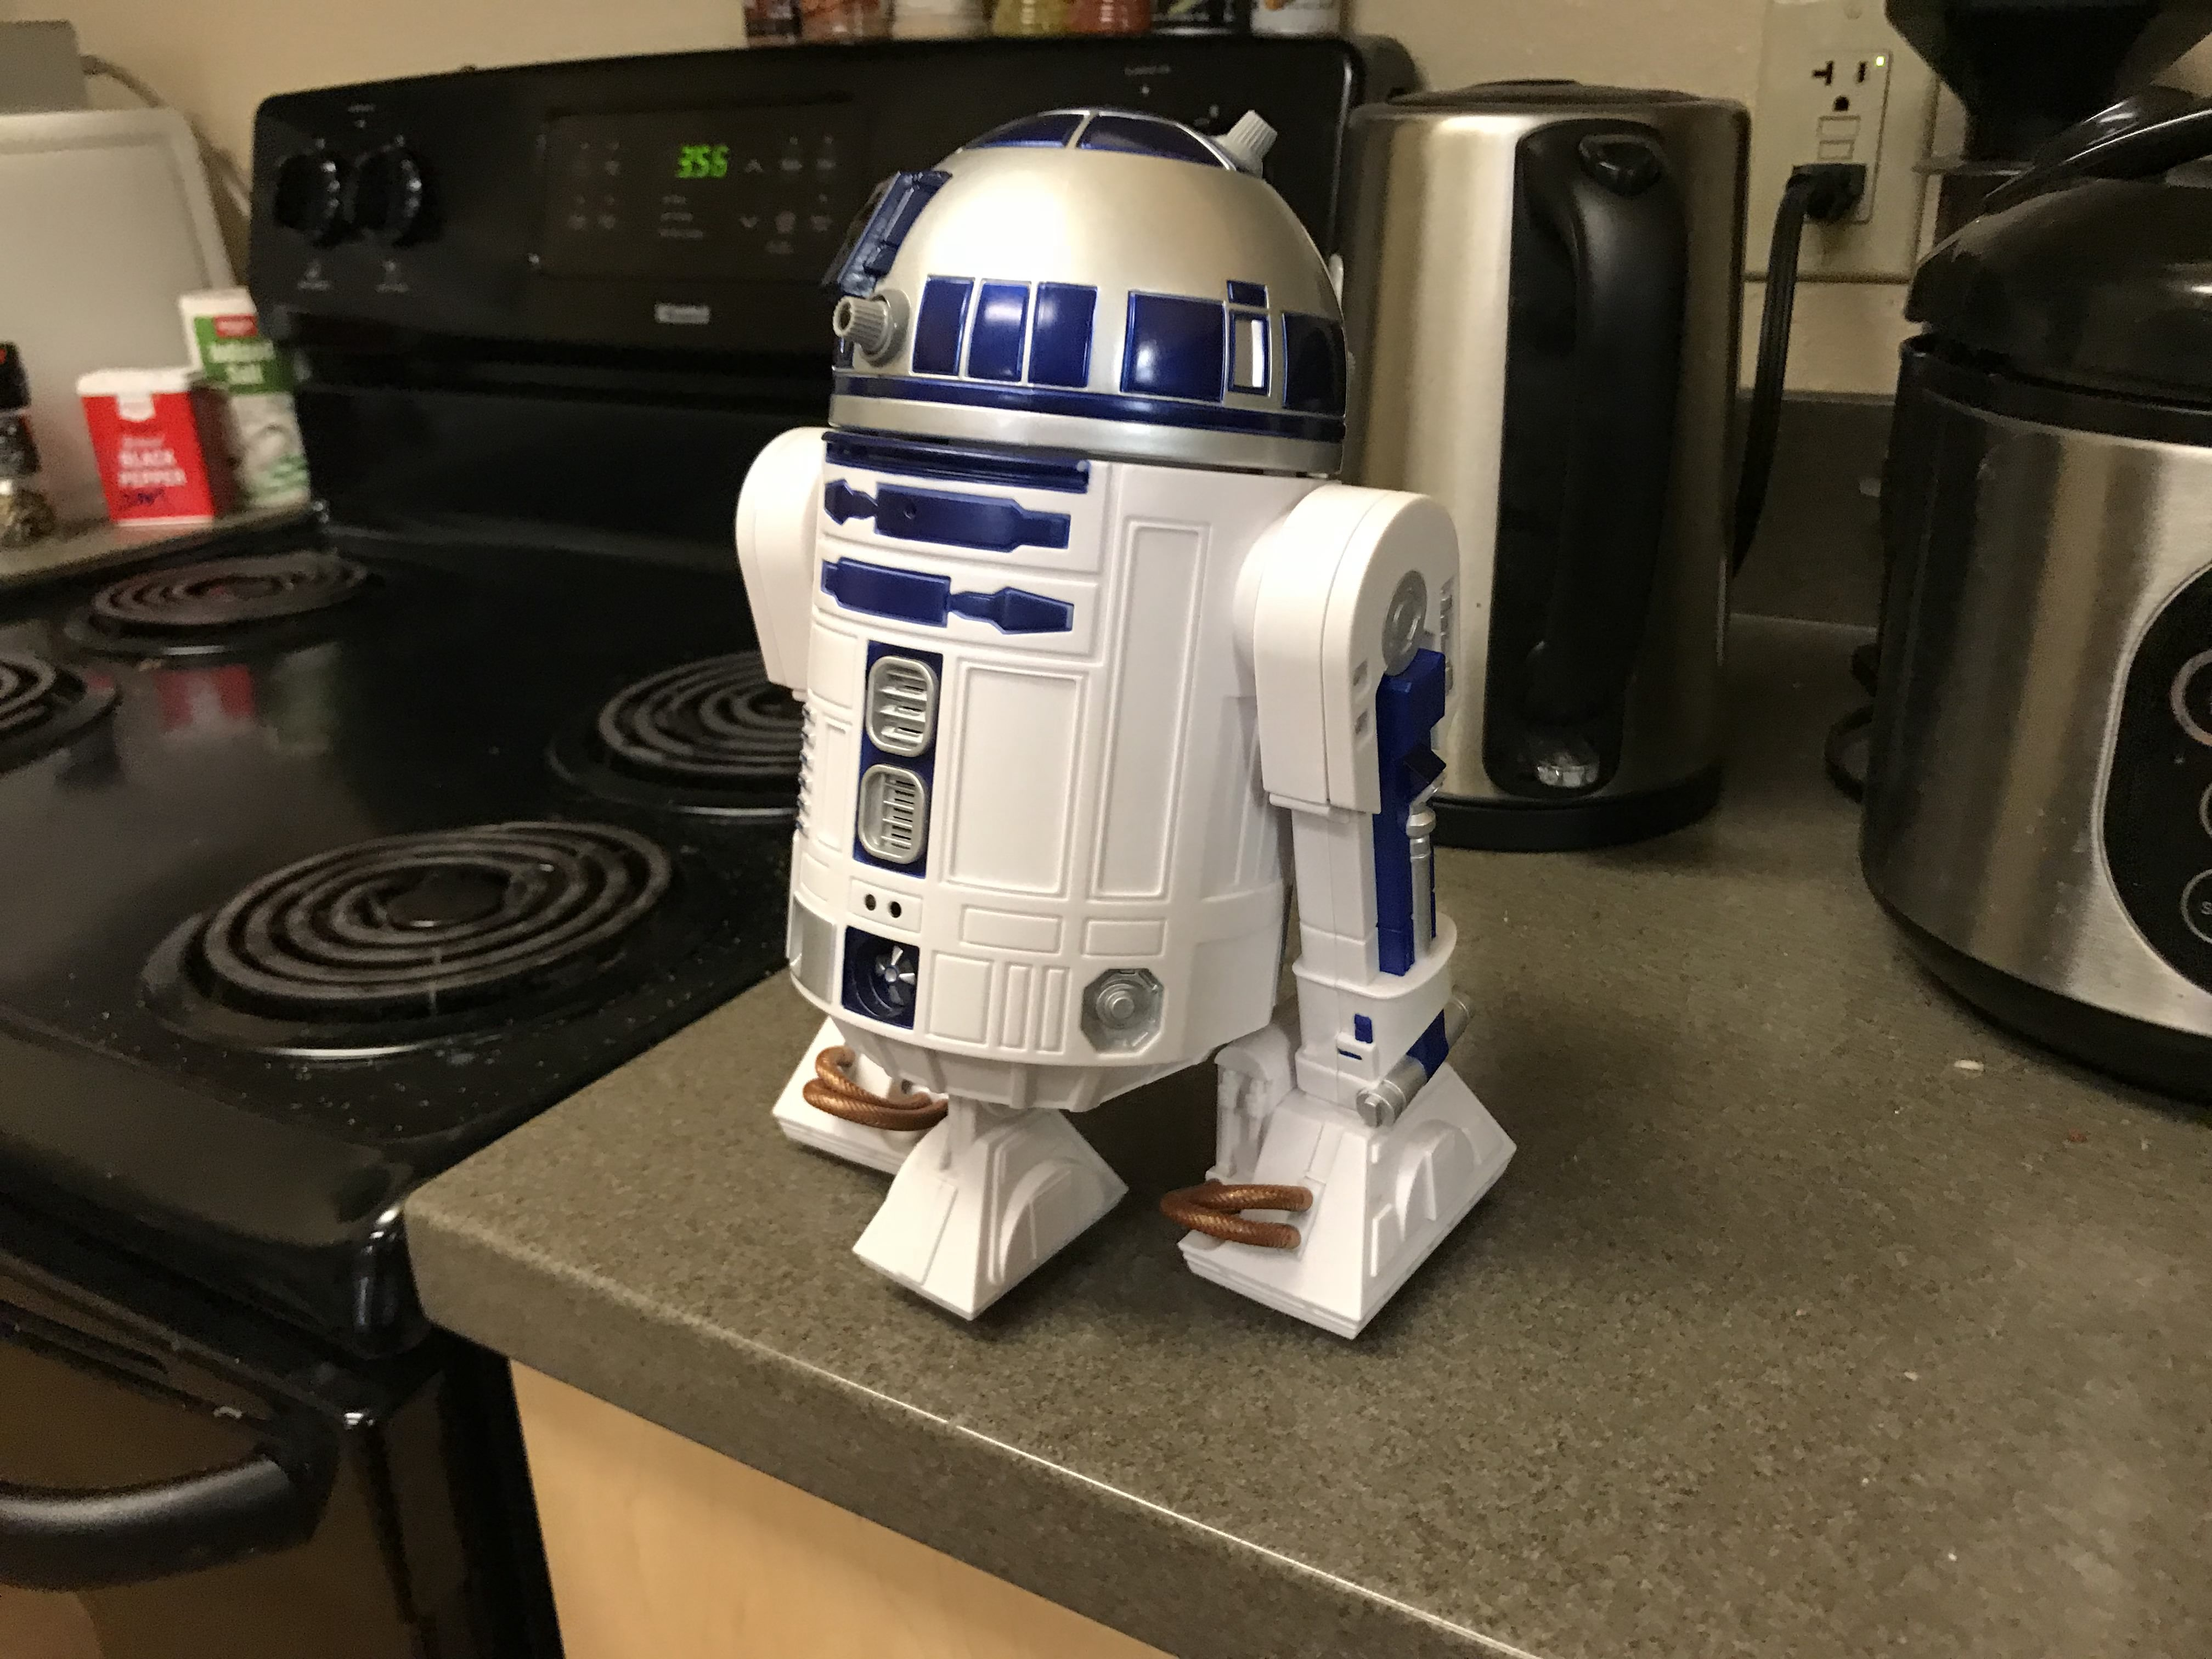r2d2: (735, 112, 1524, 1347)
